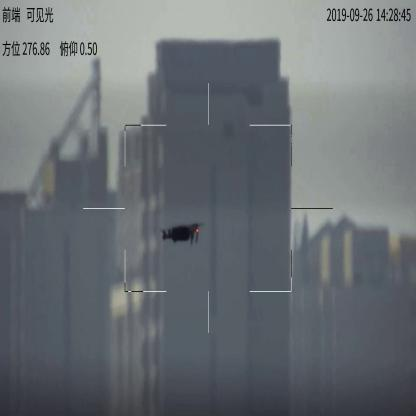uav: (153, 221, 205, 247)
